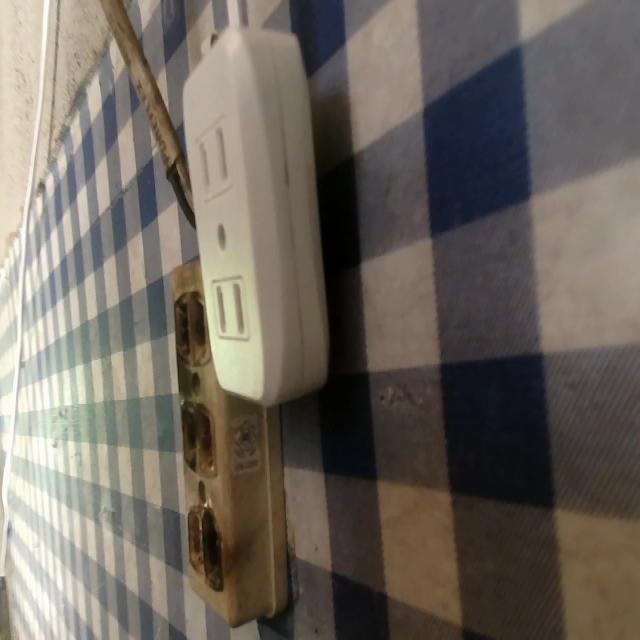-: (183, 496, 222, 600), (171, 287, 210, 361), (179, 398, 214, 478)
